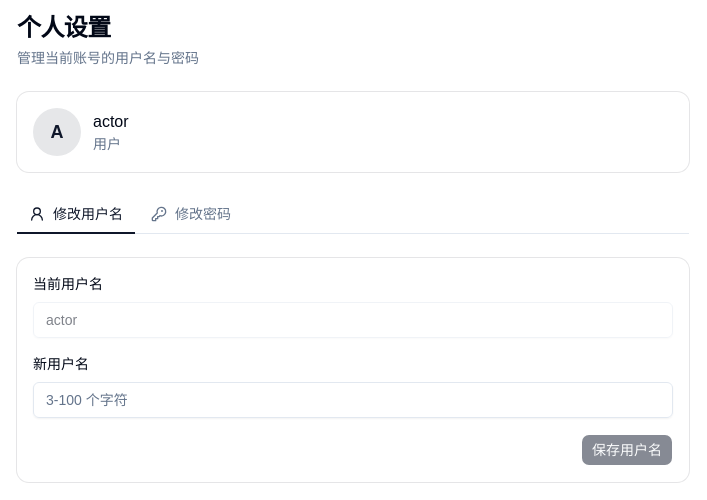
ProfilePage — self-service username & password › submits a username change WITHOUT any password and refreshes state
The image size is (707, 500).
Expected: the field showing "actor" is shown, [33,302,673,338]
Type "renamed" into the field with id "new-username". click: [353, 400]
box: [33,382,673,418]
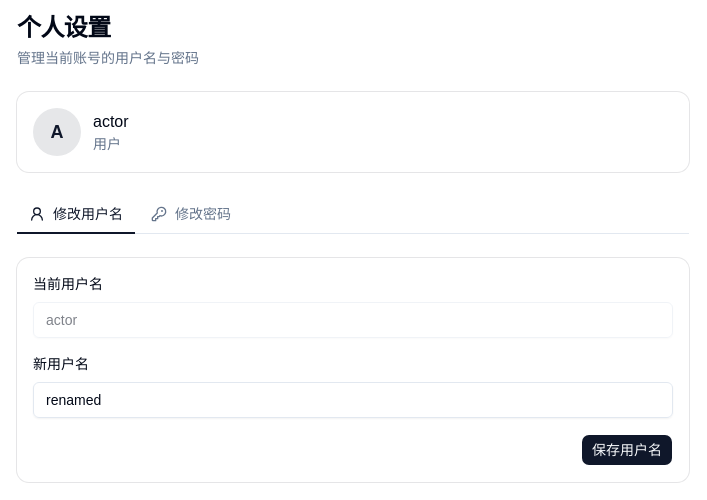
Click the button "保存用户名". click: [627, 450]
box: [581,434,673,466]
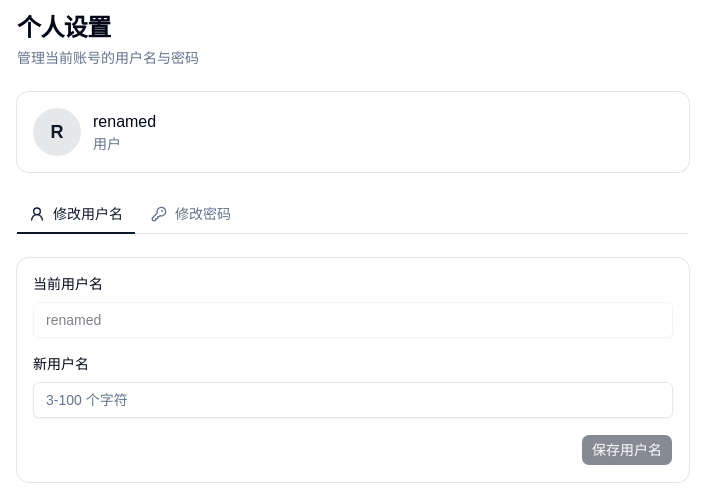
Expected: the field showing "renamed" is shown, [33,302,673,338]
